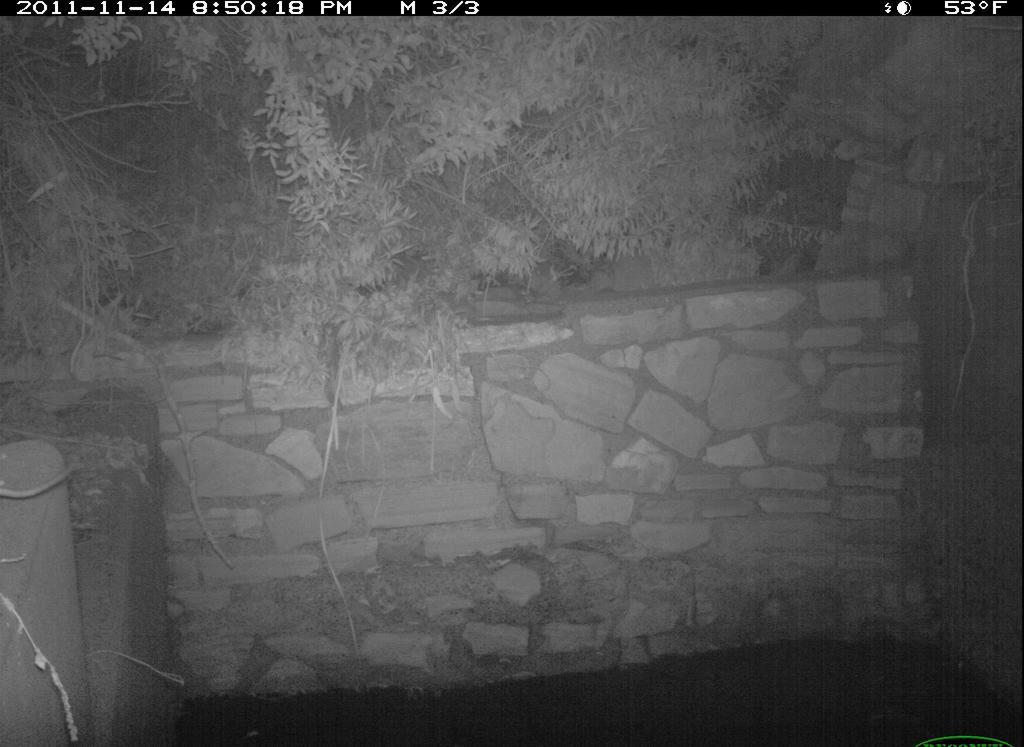rodent: (1, 445, 90, 523)
